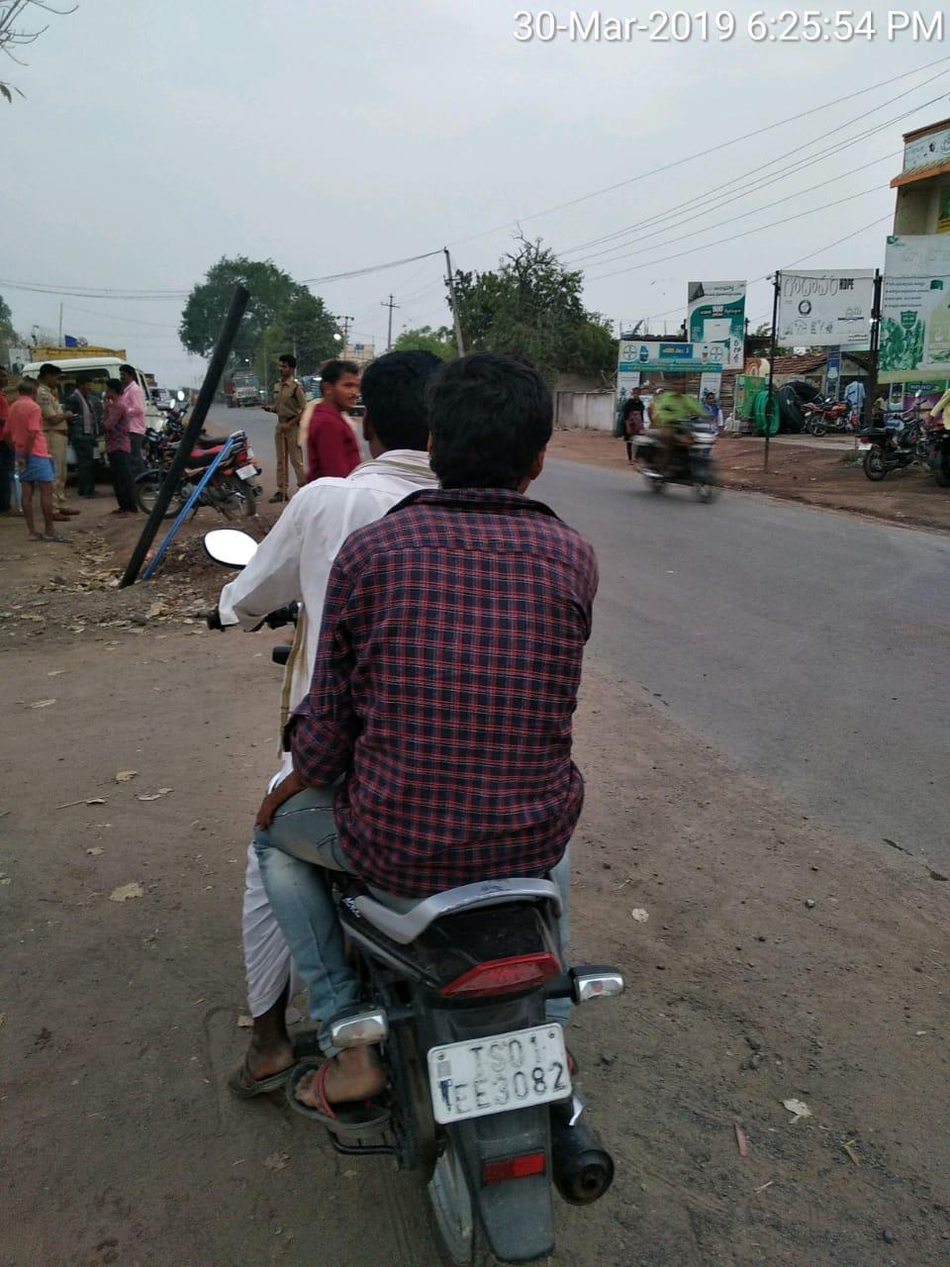plate: (407, 1008, 601, 1129)
